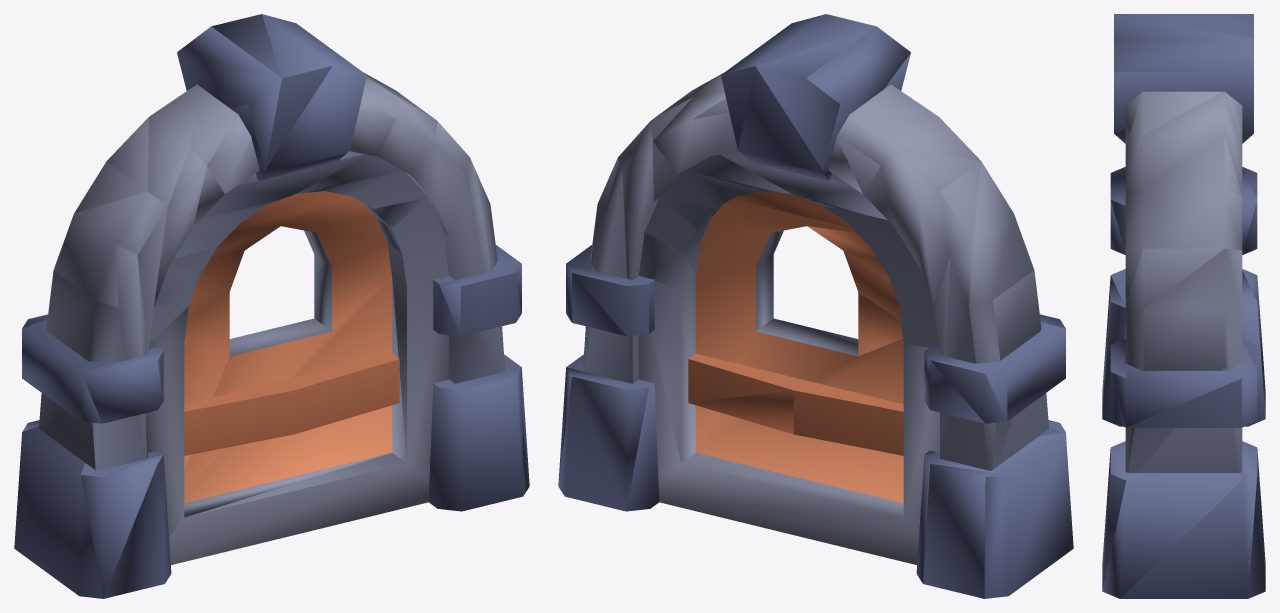
The model's file is gate-door-window_lev2.glb.
The picture shows the model from 3 angles, left to right: view 1: azimuth 30°, elevation 25°; view 2: azimuth 150°, elevation 25°; view 3: azimuth 270°, elevation 25°; orthographic projection.
Parts seen in each view (by area): view 1: gate-door-window_lev2; view 2: gate-door-window_lev2; view 3: gate-door-window_lev2.
Boxes of the visible parts, x1,y1,x2,y2 form: gate-door-window_lev2: (14, 14, 529, 598); gate-door-window_lev2: (558, 14, 1073, 598); gate-door-window_lev2: (1102, 14, 1265, 598).
Bounding box in the file's own units: 4.4 × 4.4 × 1.4.
Materials: 1 (1 with a texture image).
